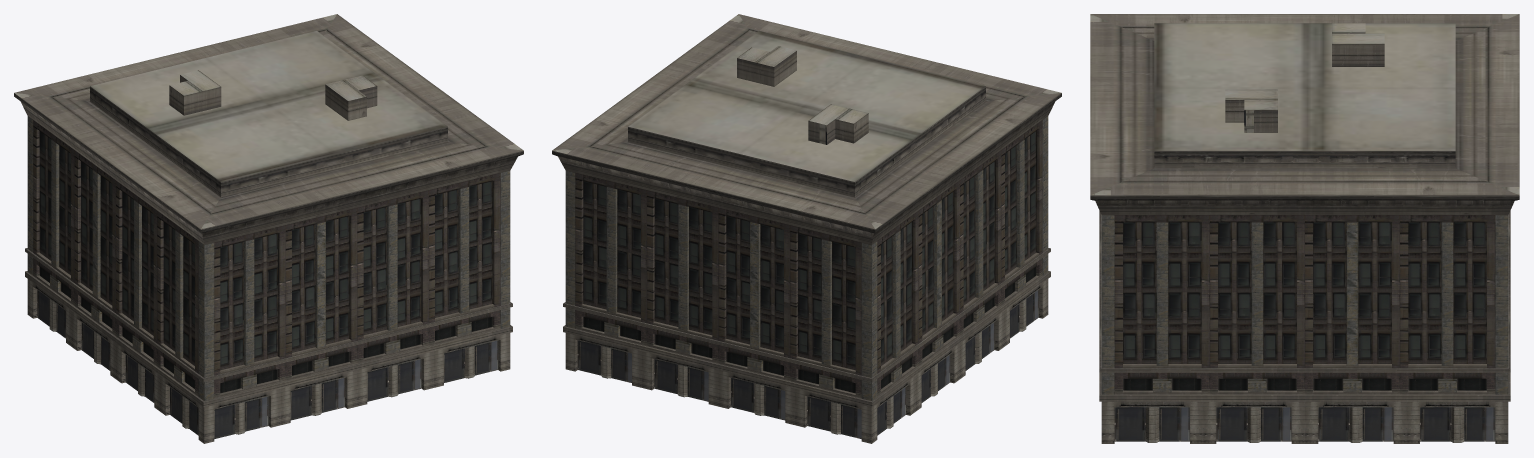
File: downtown_residential_4.glb
3 views of the same model, side by side, from view 1: azimuth 30°, elevation 25°; view 2: azimuth 150°, elevation 25°; view 3: azimuth 270°, elevation 25° (orthographic). The views are drawn at different scales.
Parts seen in each view (by area): view 1: Downtown_Residential_4; view 2: Downtown_Residential_4; view 3: Downtown_Residential_4.
Boxes of the visible parts, left/top/right/bottom form: Downtown_Residential_4: left=14, top=14, right=523, bottom=443; Downtown_Residential_4: left=552, top=14, right=1061, bottom=443; Downtown_Residential_4: left=1090, top=14, right=1519, bottom=443.
Bounding box in the file's own units: 36.95 × 27.88 × 36.95.
Materials: 2 (2 with a texture image).
